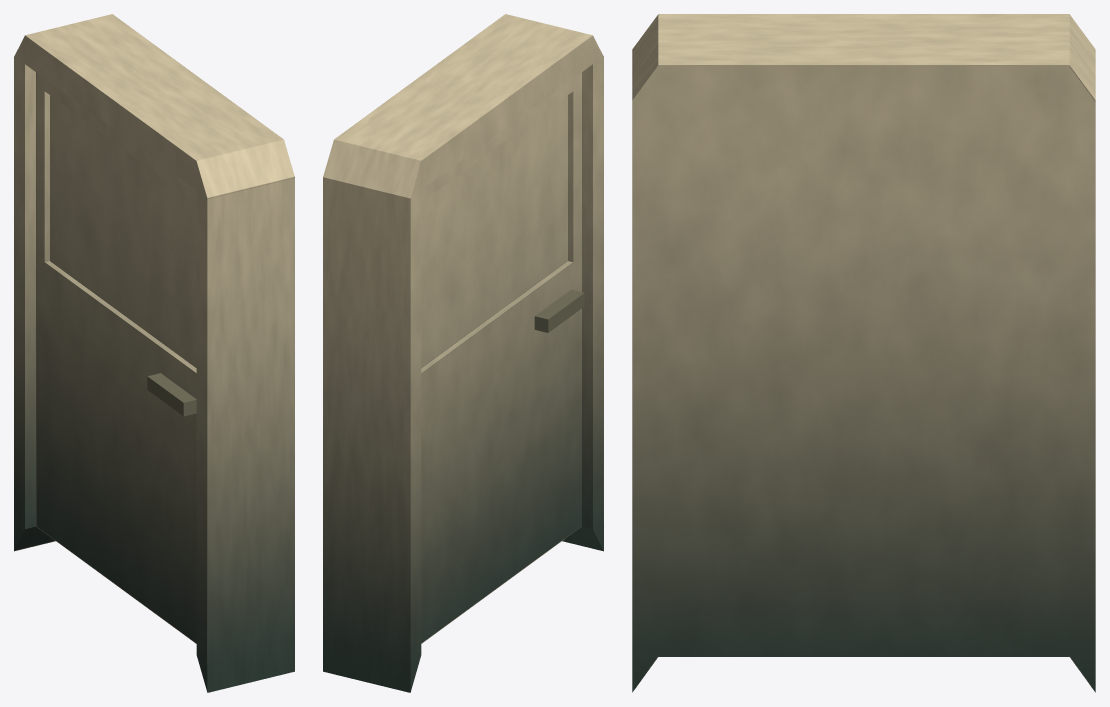
Rendered from Normal_door.fbx.
3 renders of one model, left to right at view 1: azimuth 30°, elevation 25°; view 2: azimuth 150°, elevation 25°; view 3: azimuth 270°, elevation 25°, orthographic. The views are drawn at different scales.
Parts seen in each view (by area): view 1: Normal_Door; view 2: Normal_Door; view 3: Normal_Door.
Part boxes in pixels (x1=…): Normal_Door: x1=14, y1=14, x2=294, y2=692; Normal_Door: x1=323, y1=14, x2=603, y2=692; Normal_Door: x1=632, y1=14, x2=1095, y2=692.
Size of the model in its own units: 30.24 by 169 by 113.
